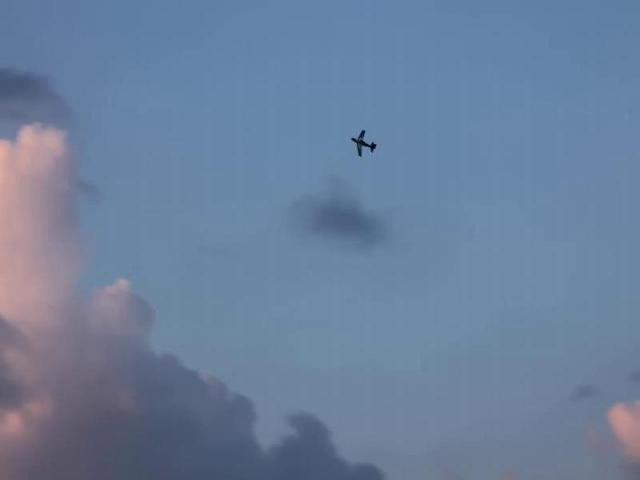hedef: (345, 121, 380, 168)
